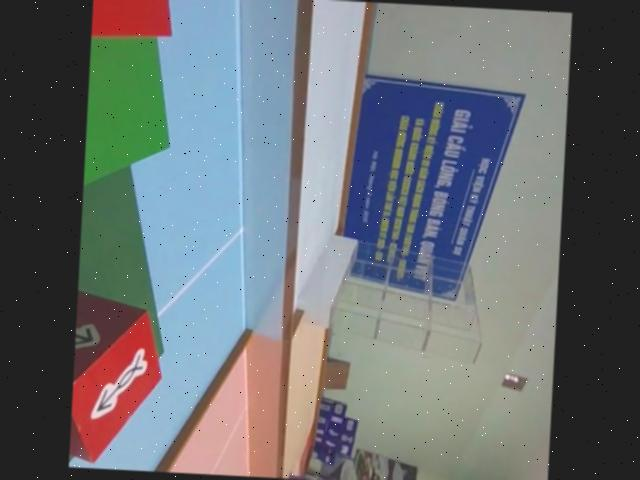R2 Real: (69, 279, 173, 467)
